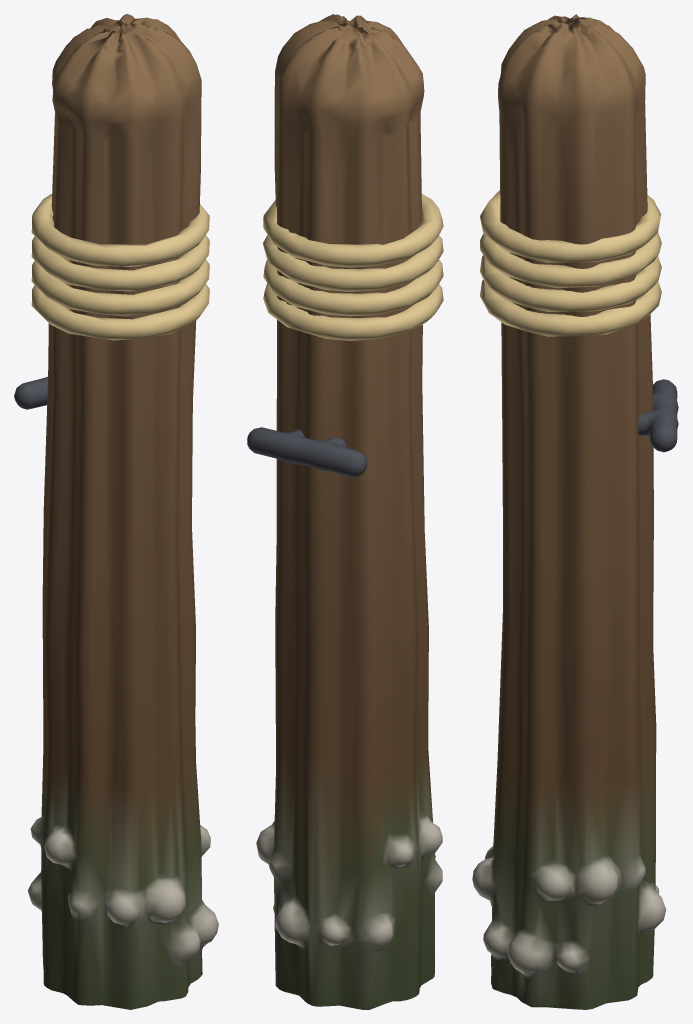
File: pier_post.glb
The picture shows the model from 3 angles, left to right: view 1: azimuth 30°, elevation 25°; view 2: azimuth 150°, elevation 25°; view 3: azimuth 270°, elevation 25°; orthographic projection.
Parts seen in each view (by area): view 1: pier_post_mesh; view 2: pier_post_mesh; view 3: pier_post_mesh.
Part boxes in pixels (bbox=[...]): pier_post_mesh: bbox=[14, 14, 218, 1009]; pier_post_mesh: bbox=[247, 14, 443, 1009]; pier_post_mesh: bbox=[472, 14, 678, 1009].
Bounding box in the file's own units: 0.4846 × 2.73 × 0.5324.
